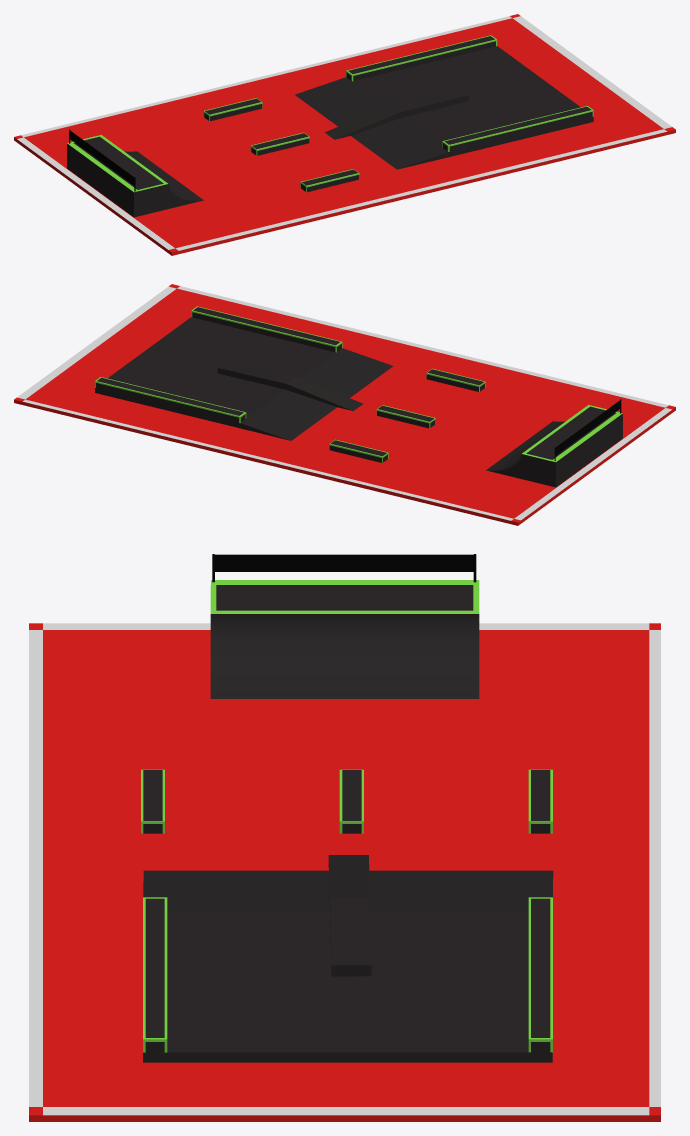
The model's file is skatepark.fbx.
3 renders of one model, top to bottom at view 1: azimuth 30°, elevation 25°; view 2: azimuth 150°, elevation 25°; view 3: azimuth 270°, elevation 25°, orthographic. The views are drawn at different scales.
Visible parts, largest first — view 1: Cube.001, Cube.004, Cube.008, Cube.002, Cube.003, Cube.006, Cube.005, Cube.007, Cylinder.001; view 2: Cube.001, Cube.004, Cube.008, Cube.003, Cube.002, Cube.005, Cube.006, Cube.007, Cylinder.001; view 3: Cube.001, Cube.004, Cube.008, Cylinder.001, Cube.002, Cube.003, Cube.005, Cube.006, Cube.007.
Boxes of the visible parts, x1,y1,x2,y2 form: Cube.001: (14,14,675,255); Cube.004: (295,46,593,169); Cube.008: (67,135,203,217); Cube.002: (442,106,593,151); Cube.003: (346,35,497,81); Cube.006: (250,132,309,155); Cube.005: (203,98,262,121); Cube.007: (300,169,359,192); Cylinder.001: (69,130,135,191); Cube.001: (14,284,675,525); Cube.004: (95,317,393,440); Cube.008: (486,405,622,487); Cube.003: (94,377,246,423); Cube.002: (191,306,342,352); Cube.005: (329,439,388,462); Cube.006: (376,405,435,428); Cube.007: (426,368,485,391); Cylinder.001: (555,399,621,455); Cube.001: (29,623,660,1121); Cube.004: (143,855,553,1062); Cube.008: (210,580,479,698); Cylinder.001: (212,554,473,582); Cube.002: (143,897,167,1052); Cube.003: (528,897,552,1052); Cube.005: (528,769,552,833); Cube.006: (339,769,363,833); Cube.007: (141,769,164,833).
Bounding box in the file's own units: 4317 × 353 × 2342.
